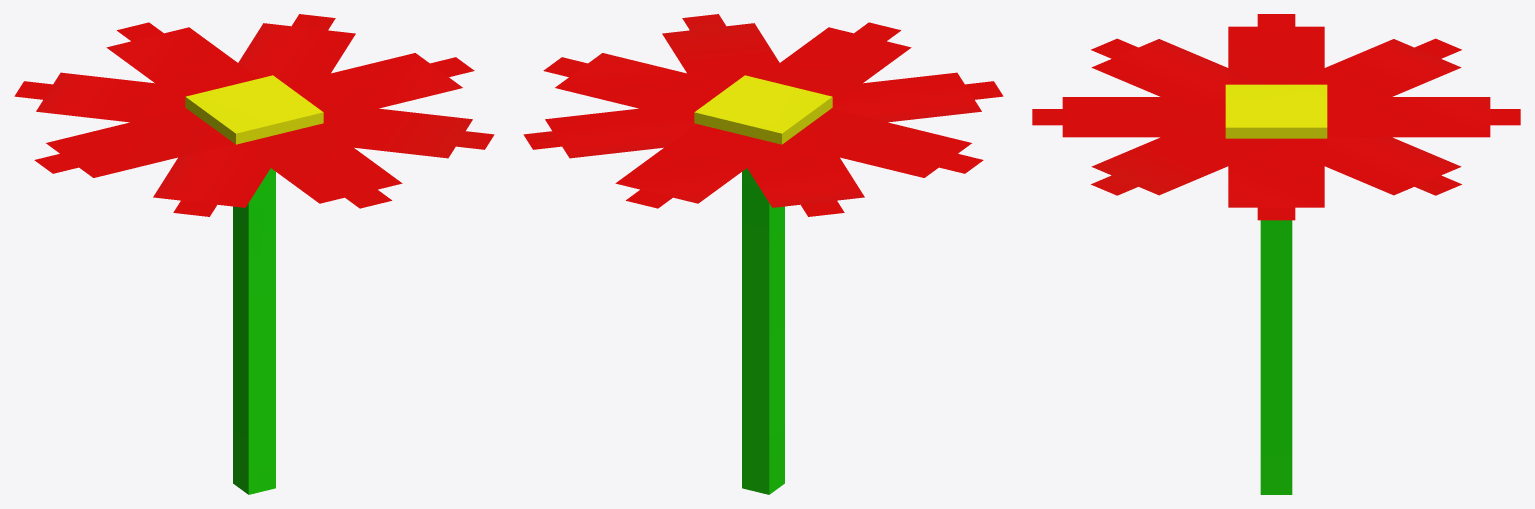
File: flower3.glb
The picture shows the model from 3 angles, left to right: view 1: azimuth 30°, elevation 25°; view 2: azimuth 150°, elevation 25°; view 3: azimuth 270°, elevation 25°; orthographic projection.
Visible parts, largest first — view 1: geometry_0; view 2: geometry_0; view 3: geometry_0.
Part boxes in pixels (bbox=[...]): geometry_0: bbox=[14, 14, 494, 494]; geometry_0: bbox=[523, 14, 1003, 494]; geometry_0: bbox=[1032, 14, 1520, 494].
Bounding box in the file's own units: 0.7122 × 0.6152 × 0.7122.
Materials: 1 (1 with a texture image).
